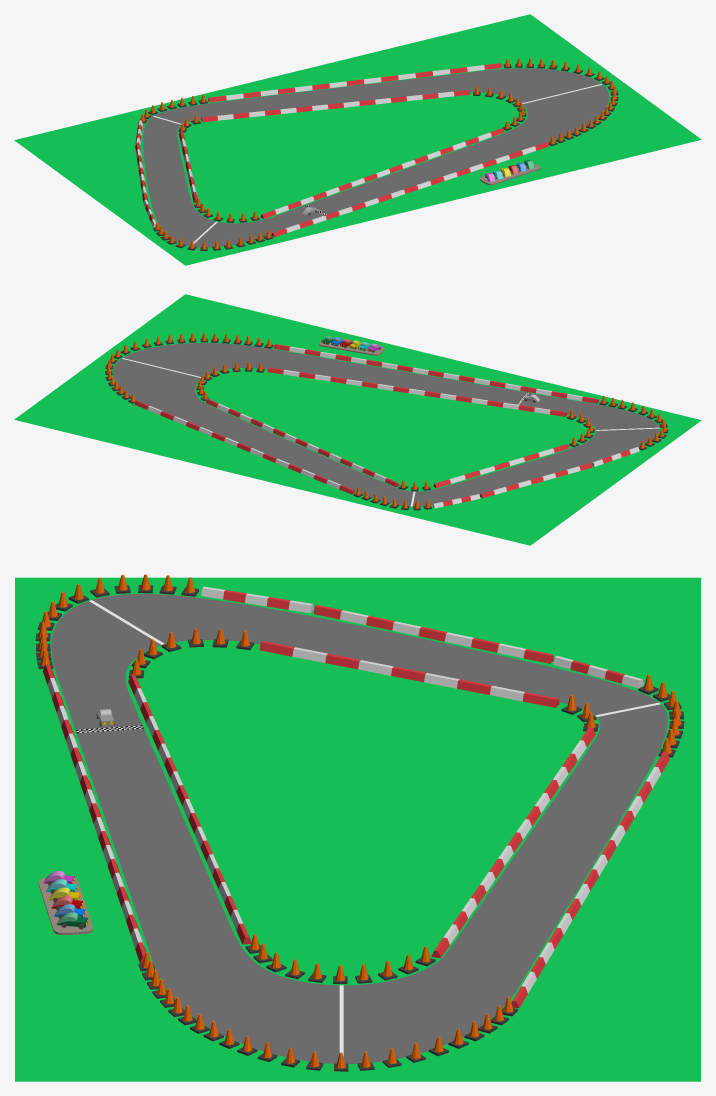
Rendered from Track021.fbx.
3 renders of one model, top to bottom at view 1: azimuth 30°, elevation 25°; view 2: azimuth 150°, elevation 25°; view 3: azimuth 270°, elevation 25°, orthographic. The views are drawn at different scales.
Parts seen in each view (by area): view 1: Grass, Road, Barrier.001, Barrier.002, Barrier.007, Barrier.005; view 2: Grass, Road, Barrier.002, Barrier.005, Barrier.001, Barrier.007, Barrier.006, Barrier.009; view 3: Grass, Road, Barrier.002, Barrier.006, Barrier.001, Barrier.005, Barrier.007, Barrier.009, Barrier.008, Barrier.003, VehicleRoad.
Part boxes in pixels (x1,y1,x2,y2): Grass: [14, 14, 701, 265]; Road: [143, 68, 609, 247]; Barrier.001: [208, 63, 501, 102]; Barrier.002: [271, 142, 549, 237]; Barrier.007: [201, 90, 469, 122]; Barrier.005: [260, 128, 504, 218]; Grass: [14, 294, 701, 545]; Road: [113, 343, 659, 506]; Barrier.002: [273, 344, 599, 403]; Barrier.005: [267, 367, 566, 416]; Barrier.001: [134, 400, 354, 494]; Barrier.007: [205, 398, 399, 486]; Barrier.006: [433, 444, 569, 488]; Barrier.009: [480, 463, 592, 498]; Grass: [15, 577, 700, 1081]; Road: [51, 594, 667, 1063]; Barrier.002: [43, 664, 145, 963]; Barrier.006: [259, 641, 559, 707]; Barrier.001: [511, 752, 669, 1008]; Barrier.005: [128, 674, 251, 944]; Barrier.007: [431, 727, 595, 958]; Barrier.009: [313, 604, 553, 663]; Barrier.008: [201, 586, 313, 613]; Barrier.003: [553, 655, 644, 688]; VehicleRoad: [38, 877, 92, 934].
Bounding box in the file's own units: 241 × 139 × 3.41.
